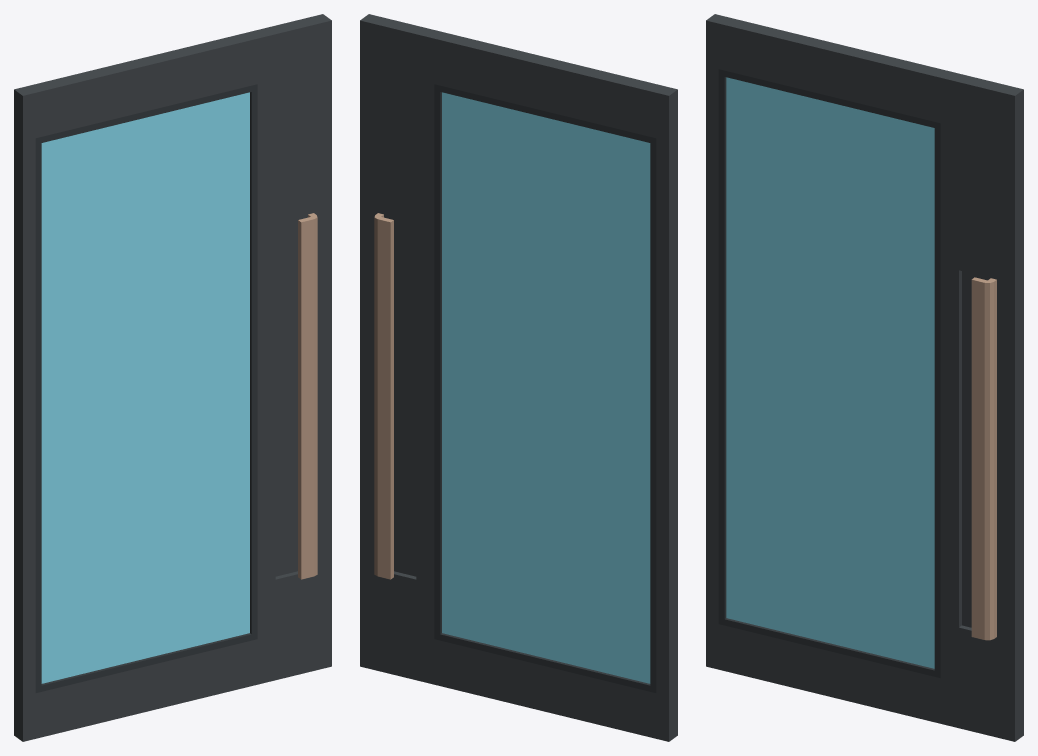
The model's file is SM_Buildings_House_09_Door.fbx.
The picture shows the model from 3 angles, left to right: view 1: azimuth 30°, elevation 25°; view 2: azimuth 150°, elevation 25°; view 3: azimuth 330°, elevation 25°; orthographic projection.
Visible parts, largest first — view 1: SM_Buildings_House_09_Door; view 2: SM_Buildings_House_09_Door; view 3: SM_Buildings_House_09_Door.
Part boxes in pixels (x1,y1,x2,y2): SM_Buildings_House_09_Door: (14,14,331,741); SM_Buildings_House_09_Door: (360,14,677,741); SM_Buildings_House_09_Door: (706,14,1023,741).
Bounding box in the file's own units: 1 × 2 × 0.1221.
